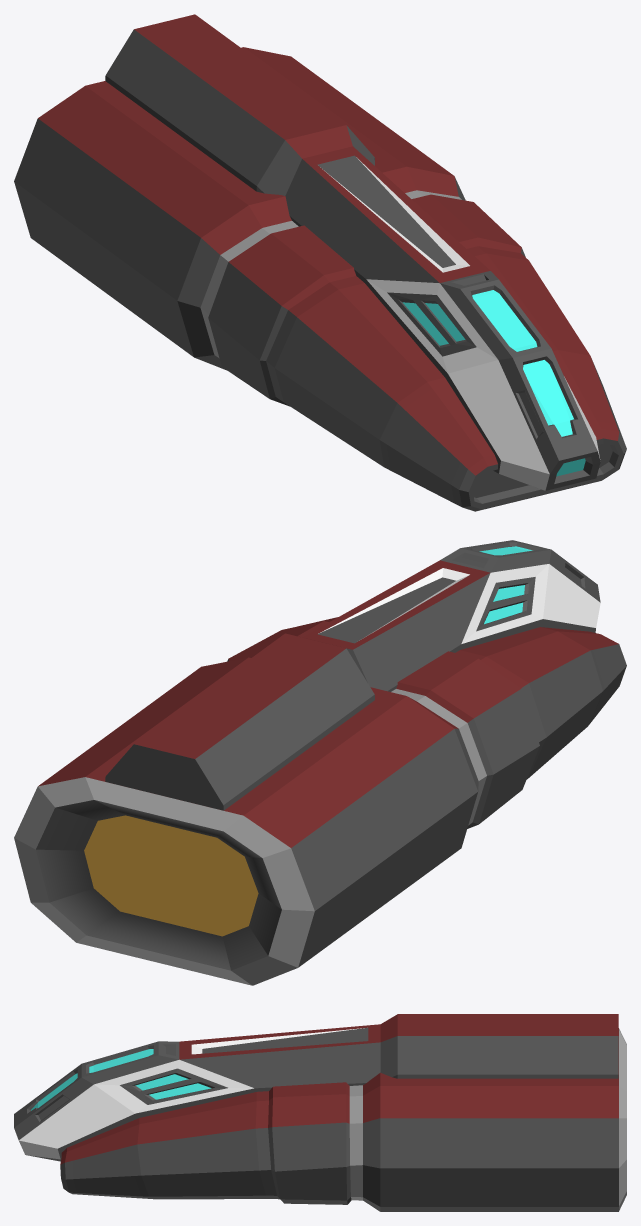
File: Ship_1x2_C1.fbx
3 views of the same model, one above another, from view 1: azimuth 30°, elevation 25°; view 2: azimuth 150°, elevation 25°; view 3: azimuth 270°, elevation 25° (orthographic). The views are drawn at different scales.
Parts seen in each view (by area): view 1: Ship_1x2_C1; view 2: Ship_1x2_C1; view 3: Ship_1x2_C1.
Boxes of the visible parts, x1,y1,x2,y2 form: Ship_1x2_C1: (14,14,626,511); Ship_1x2_C1: (14,540,626,985); Ship_1x2_C1: (14,1014,626,1211).
Bounding box in the file's own units: 76.43 × 51.6 × 185.
